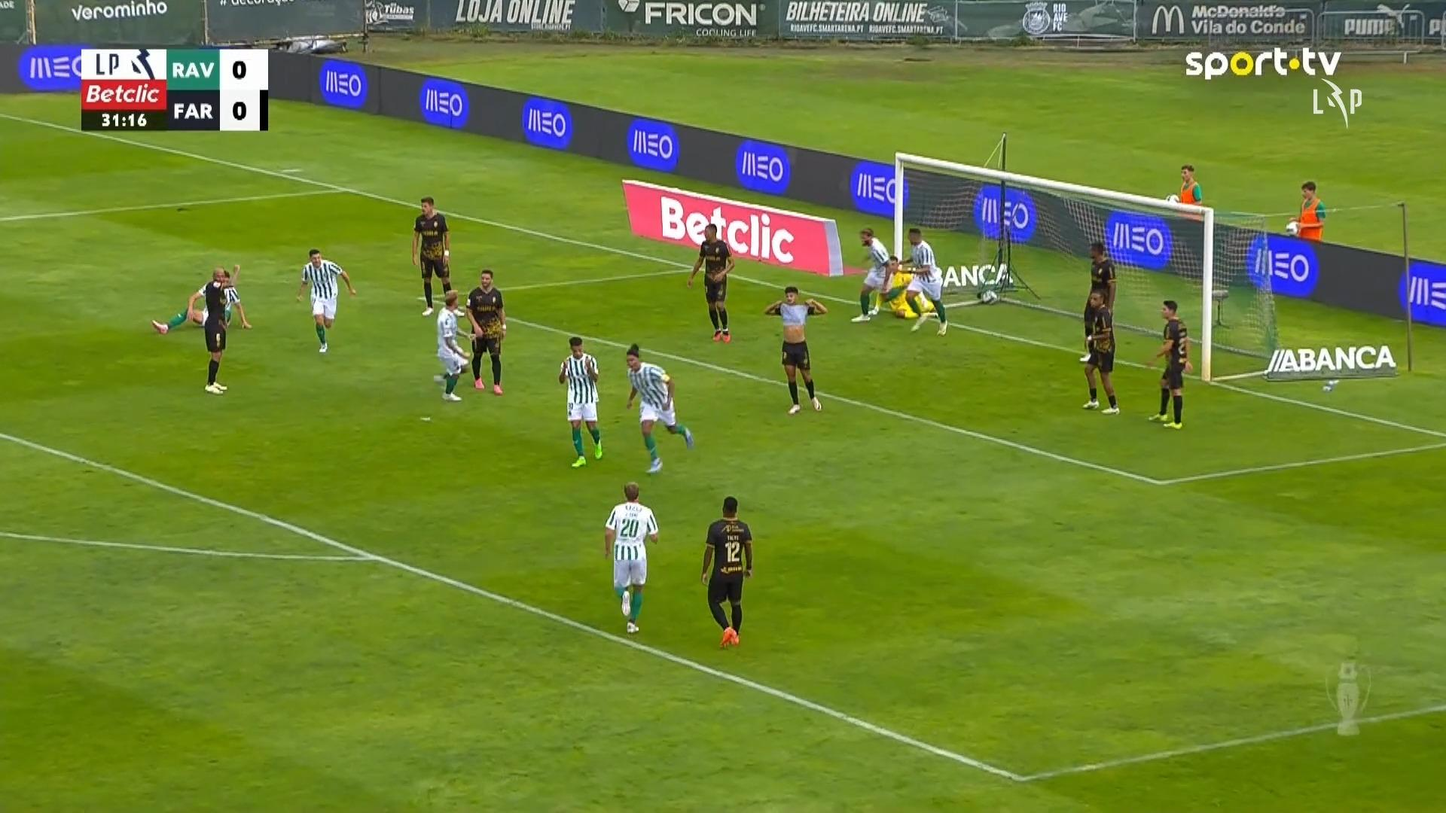ball: (978, 285, 999, 306)
goalkeeper: (878, 256, 935, 319)
player: (624, 343, 694, 473), (602, 481, 659, 634), (763, 285, 828, 414), (700, 495, 753, 647), (151, 263, 253, 333), (295, 247, 355, 353), (557, 335, 603, 468), (186, 265, 232, 394), (685, 223, 734, 343), (1146, 299, 1191, 429), (895, 227, 948, 335), (465, 269, 507, 394), (410, 196, 452, 316), (1080, 288, 1120, 414), (432, 289, 475, 401), (1079, 241, 1117, 361), (850, 227, 893, 322)
